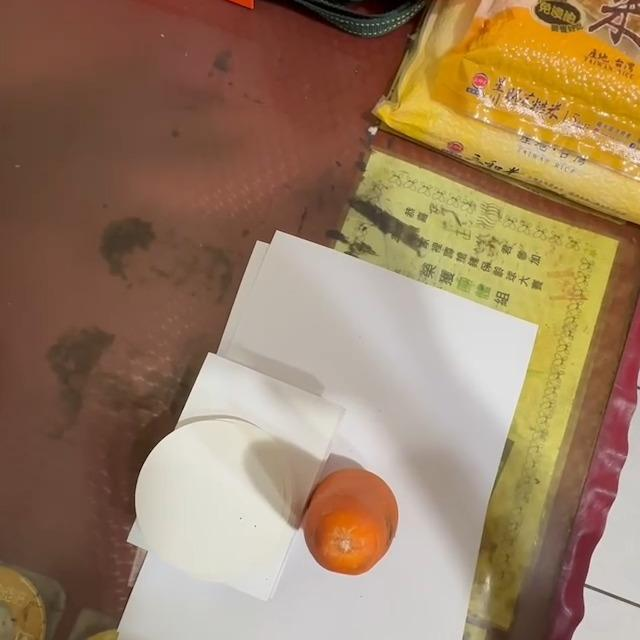carrot: (300, 469, 400, 579)
